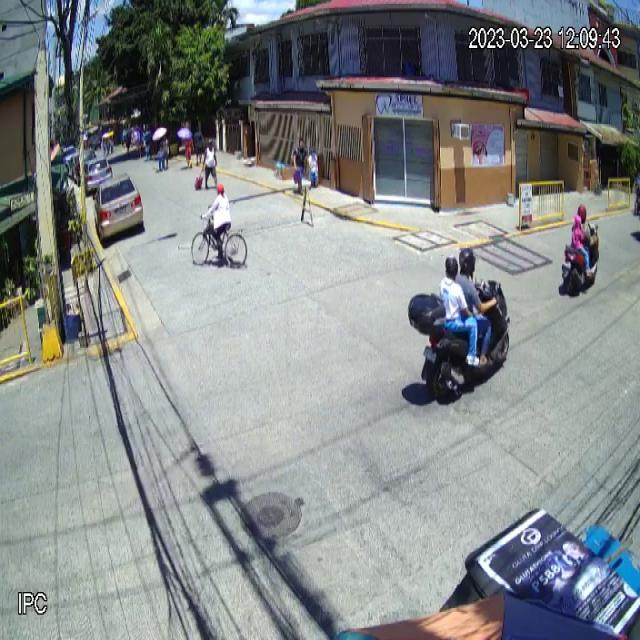Motorcycle: (408, 278, 512, 408)
